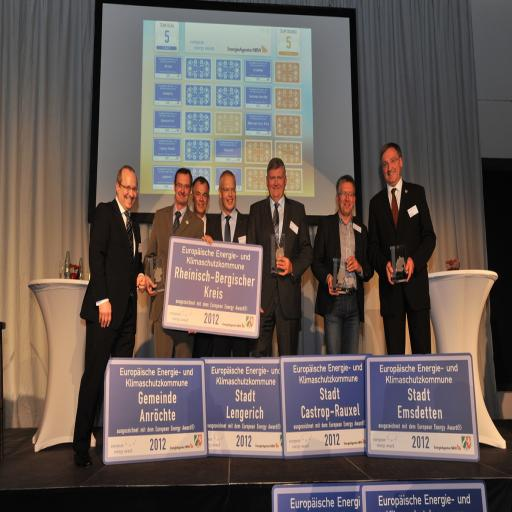Person: (75, 176, 147, 402), (368, 178, 440, 326), (304, 194, 374, 322), (252, 180, 314, 322), (150, 192, 202, 328), (212, 192, 250, 258), (189, 194, 210, 238)
no_gloves: (90, 280, 114, 306), (401, 253, 418, 277), (271, 250, 291, 270), (345, 252, 364, 269), (144, 262, 158, 284), (385, 258, 395, 284), (201, 237, 215, 252), (135, 262, 145, 283), (326, 268, 338, 284)
no_goggle: (117, 204, 141, 217), (334, 210, 358, 221), (175, 204, 193, 216), (266, 199, 286, 209), (220, 208, 236, 218), (378, 190, 396, 198), (194, 212, 208, 217)
no_helmet: (334, 198, 358, 222), (376, 174, 398, 200), (263, 188, 291, 208), (114, 191, 140, 211), (218, 198, 238, 217), (194, 201, 212, 222), (170, 195, 192, 212)
none: (362, 204, 454, 344), (310, 212, 382, 356), (138, 200, 210, 342), (243, 208, 319, 332), (78, 212, 150, 332), (208, 214, 258, 321)
